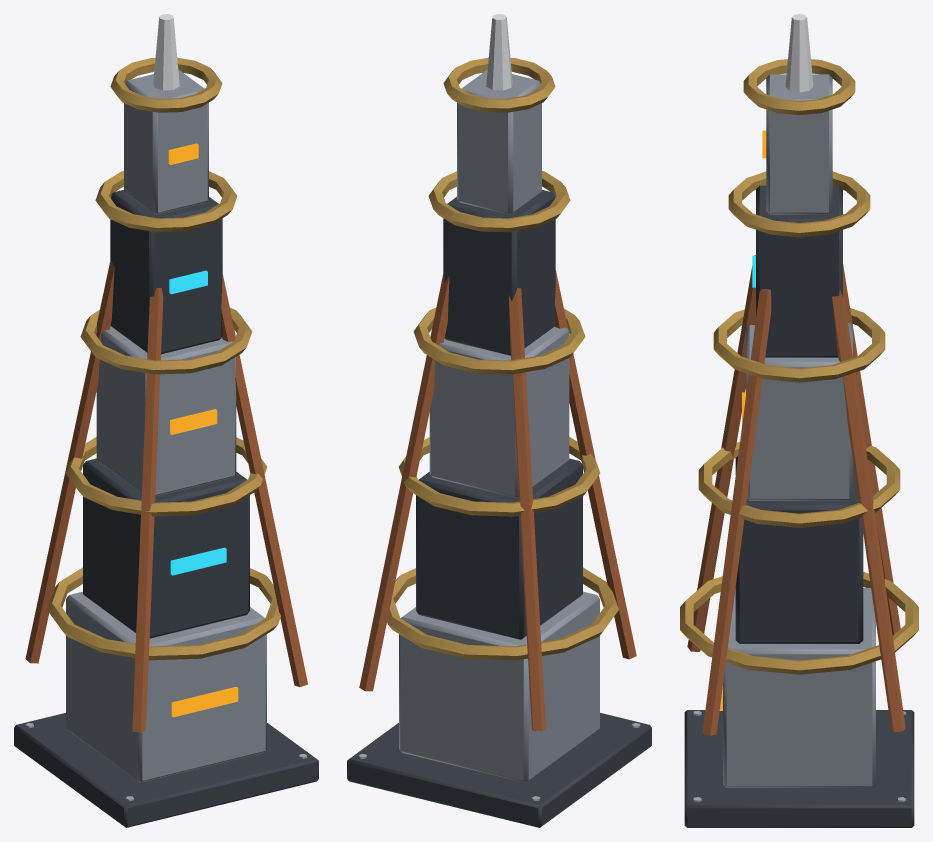
The model's file is coil_injector_tower.glb.
3 views of the same model, side by side, from view 1: azimuth 30°, elevation 25°; view 2: azimuth 150°, elevation 25°; view 3: azimuth 270°, elevation 25° (orthographic). The views are drawn at different scales.
Parts seen in each view (by area): view 1: coil_injector_tower; view 2: coil_injector_tower; view 3: coil_injector_tower.
Part boxes in pixels (x1,y1,x2,y2): coil_injector_tower: (14,14,318,827); coil_injector_tower: (347,14,651,827); coil_injector_tower: (680,14,918,827).
Size of the model in its own units: 0.96 by 3.3 by 0.9359.
